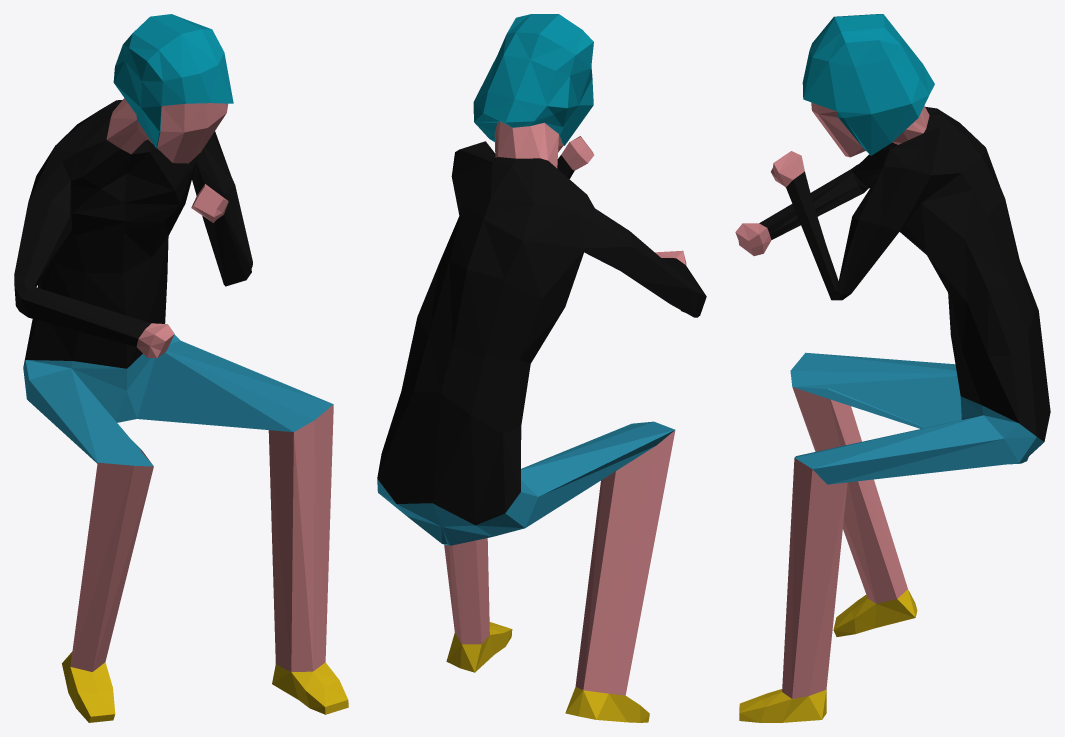
The model's file is femModelWithPose.obj.
3 renders of one model, left to right at view 1: azimuth 30°, elevation 25°; view 2: azimuth 150°, elevation 25°; view 3: azimuth 270°, elevation 25°, orthographic. The views are drawn at different scales.
Parts seen in each view (by area): view 1: Cube_Cube.002; view 2: Cube_Cube.002; view 3: Cube_Cube.002.
Boxes of the visible parts, x1,y1,x2,y2 form: Cube_Cube.002: [14, 14, 348, 722]; Cube_Cube.002: [377, 14, 706, 722]; Cube_Cube.002: [735, 14, 1050, 722].
Bounding box in the file's own units: 0.5726 × 1.25 × 0.5486.
